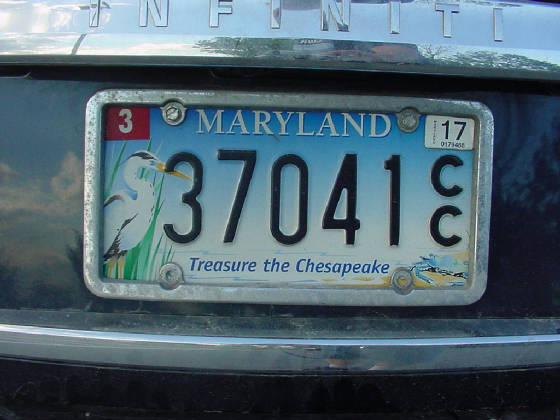license plate: (80, 85, 492, 305)
